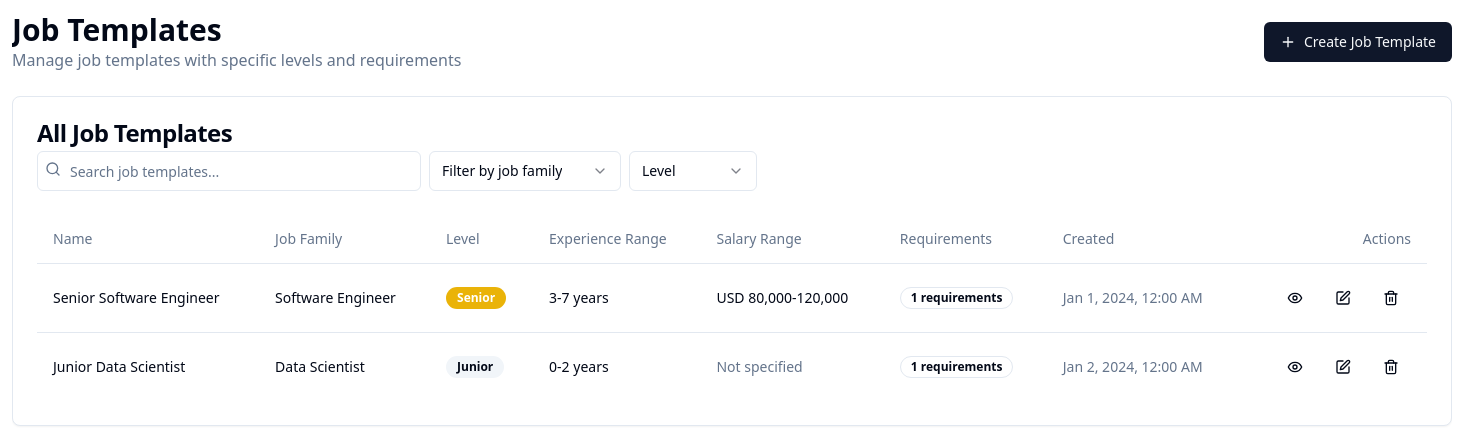
Test: JobTemplateList › filters templates by search term
This screenshot has width=1464, height=443.
Type "Senior" into the field with placeholder "Search job templates...".
click(229, 171); type("Senior")  # box [37,151,421,191]
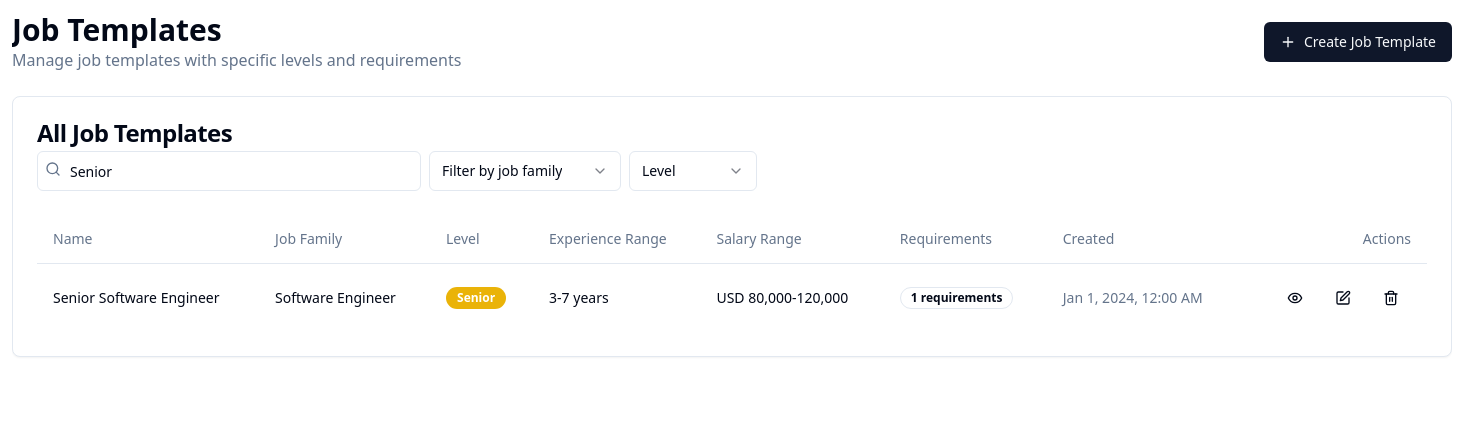
Expected: the text "Senior Software Engineer" is shown, [37,263,259,332]
Now the text "Junior Data Scientist" is gone
